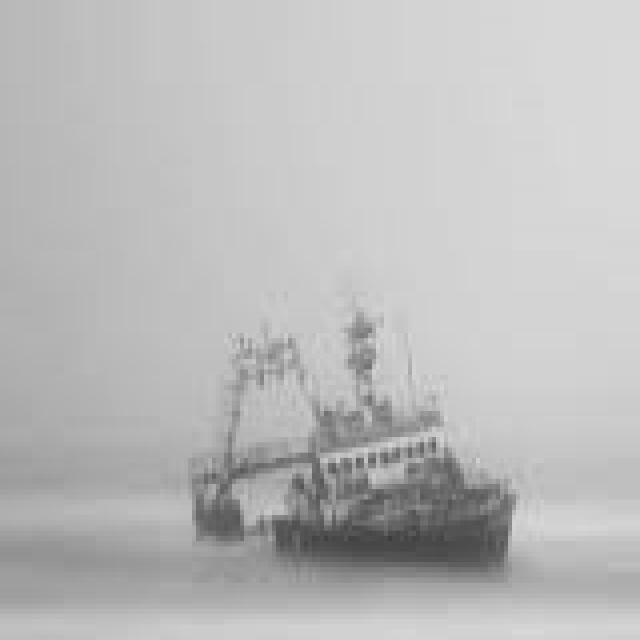fishing boat: (177, 310, 534, 582)
